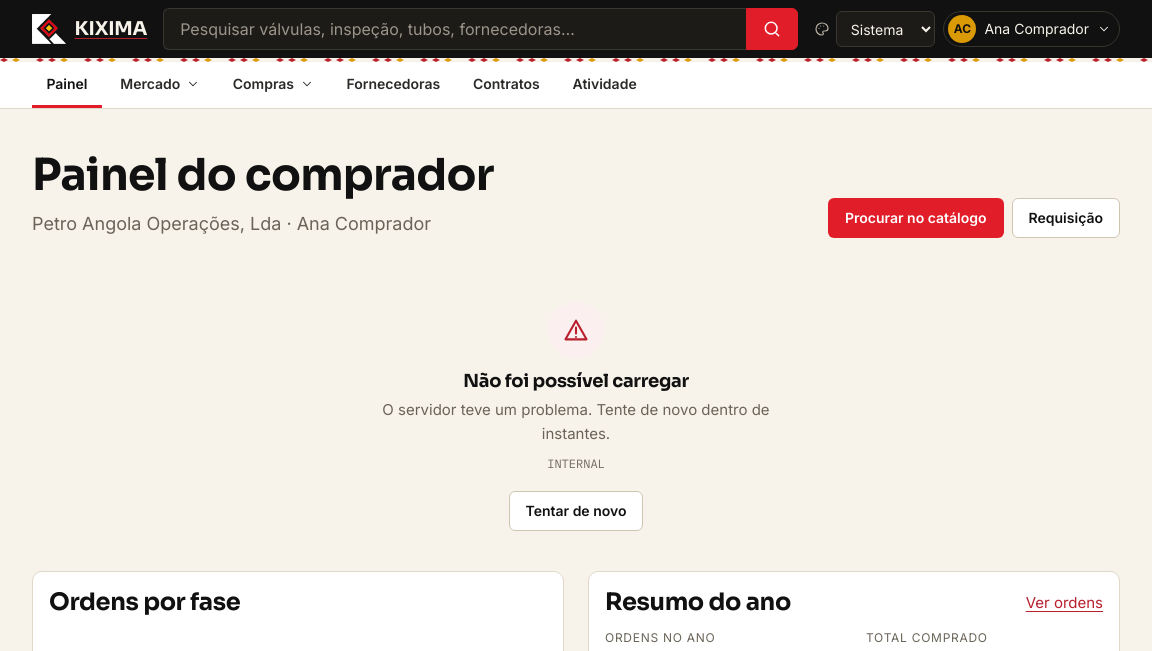
Test: painel do comprador (dados reais do backend) › se o servidor falha mostra o erro e permite tentar de novo
Click the button "Tentar de novo" at (576, 511), box [508, 491, 644, 531]
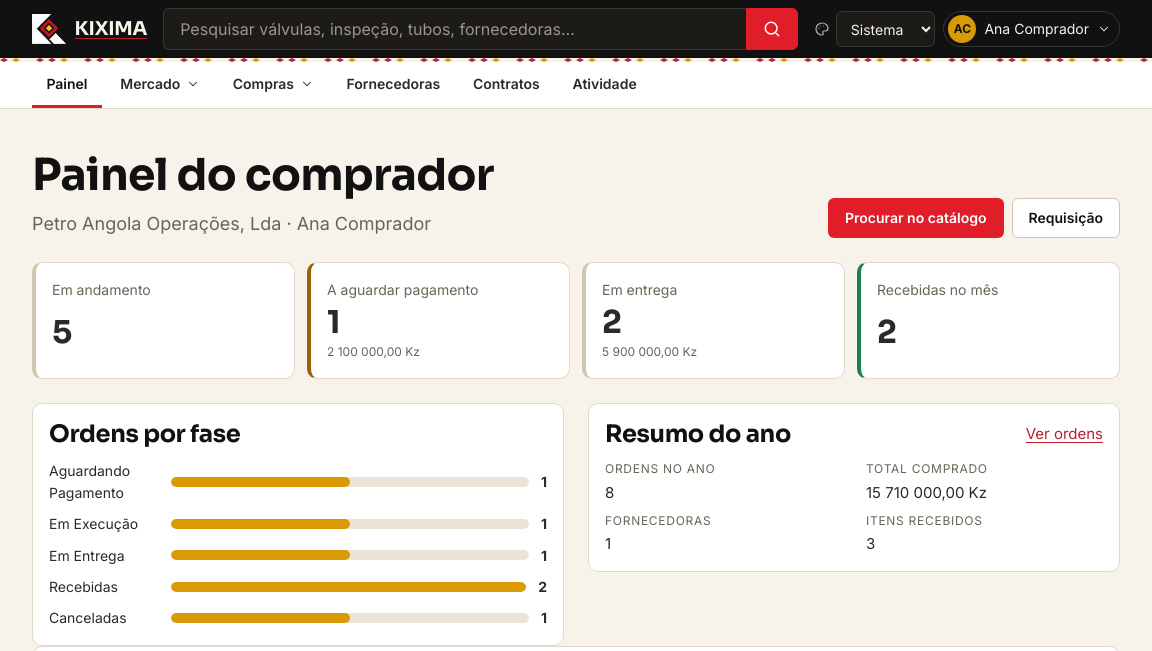
Result: the text "Em andamento" is shown at [52, 281, 151, 298]
